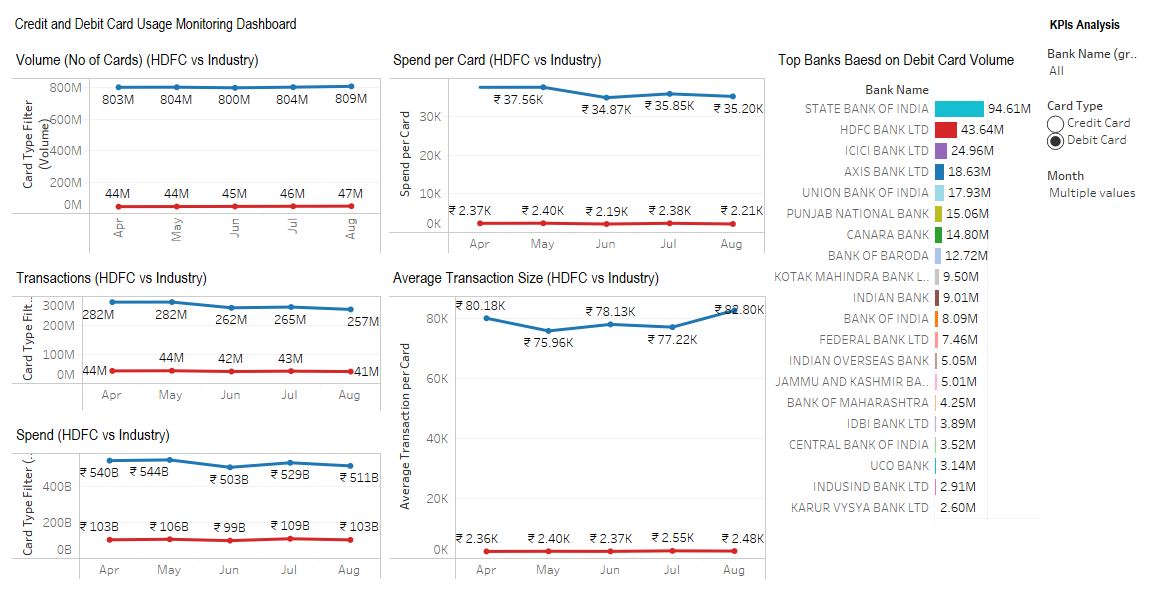

This screenshot's page, from the dashboard's own definition file:
{"tool":"tableau","page":{"name":"Credit and Debit Card Usage Monitoring Dashboard 3","canvas":[1000,1000],"units":"permille","ordinal":2},"visuals":[{"type":"text","box":[6.9,13.5,896.1,54]},{"type":"text","box":[903,13.5,90.1,54]},{"type":"worksheet","title":"Volume (No of Cards) (HDFC vs Industry)","mark":"Line","rows":["Calculation_210543327066386432"],"cols":["Year","Month"],"box":[6.9,67.5,326.3,368.3]},{"type":"worksheet","title":"Spend per Card (HDFC vs Industry)","mark":"Line","rows":["Calculation_66991089298948096"],"cols":["Year","Month"],"box":[333.3,67.5,333.3,368.3]},{"type":"worksheet","title":"Top Banks Baesd on Debit Card Volume (2)","mark":"Bar","rows":["Bank_Name"],"cols":["Dc_Transactions"],"box":[666.6,67.5,236.4,919]},{"type":"filter","title":"Volume (No of Cards) (HDFC vs Industry)","param":"[federated.12tx3680js95tj16g58zu03pd9tj].[Bank Name (group)]","box":[903,67.5,90.1,87.8]},{"type":"parameter","param":"[Parameters].[Parameter 1]","box":[903,155.4,90.1,118.2]},{"type":"filter","title":"Spend (HDFC vs Industry)","param":"[federated.12tx3680js95tj16g58zu03pd9tj].[none:Month:nk]","box":[903,273.6,90.1,87.8]},{"type":"worksheet","title":"Transactions (HDFC vs Industry)","mark":"Line","rows":["Calculation_210543327066513409"],"cols":["Year","Month"],"box":[6.9,435.8,326.4,265.2]},{"type":"worksheet","title":"Average Transaction Size (HDFC vs Industry)","mark":"Line","rows":["Calculation_66991089304100865"],"cols":["Year","Month"],"box":[333.3,435.8,333.3,550.7]},{"type":"worksheet","title":"Spend (HDFC vs Industry)","mark":"Line","rows":["Calculation_210543327066660866"],"cols":["Year","Month"],"box":[6.9,701,326.4,285.5]}]}

Visuals, with their boxes on the dashboard's canvas, which has no fixed pixel size, in thousandths of its width and height (x1, y1, x2, y2). These are canvas units, not pixel positions in the 1155x592 screenshot, which may show the page scaled, cropped or inside an application window:
text: [left=7, top=14, right=903, bottom=68]
text: [left=903, top=14, right=993, bottom=68]
"Volume (No of Cards) (HDFC vs Industry)" worksheet (Line marks): [left=7, top=68, right=333, bottom=436]
"Spend per Card (HDFC vs Industry)" worksheet (Line marks): [left=333, top=68, right=667, bottom=436]
"Top Banks Baesd on Debit Card Volume (2)" worksheet (Bar marks): [left=667, top=68, right=903, bottom=986]
"Volume (No of Cards) (HDFC vs Industry)" filter: [left=903, top=68, right=993, bottom=155]
parameter: [left=903, top=155, right=993, bottom=274]
"Spend (HDFC vs Industry)" filter: [left=903, top=274, right=993, bottom=361]
"Transactions (HDFC vs Industry)" worksheet (Line marks): [left=7, top=436, right=333, bottom=701]
"Average Transaction Size (HDFC vs Industry)" worksheet (Line marks): [left=333, top=436, right=667, bottom=986]
"Spend (HDFC vs Industry)" worksheet (Line marks): [left=7, top=701, right=333, bottom=986]
